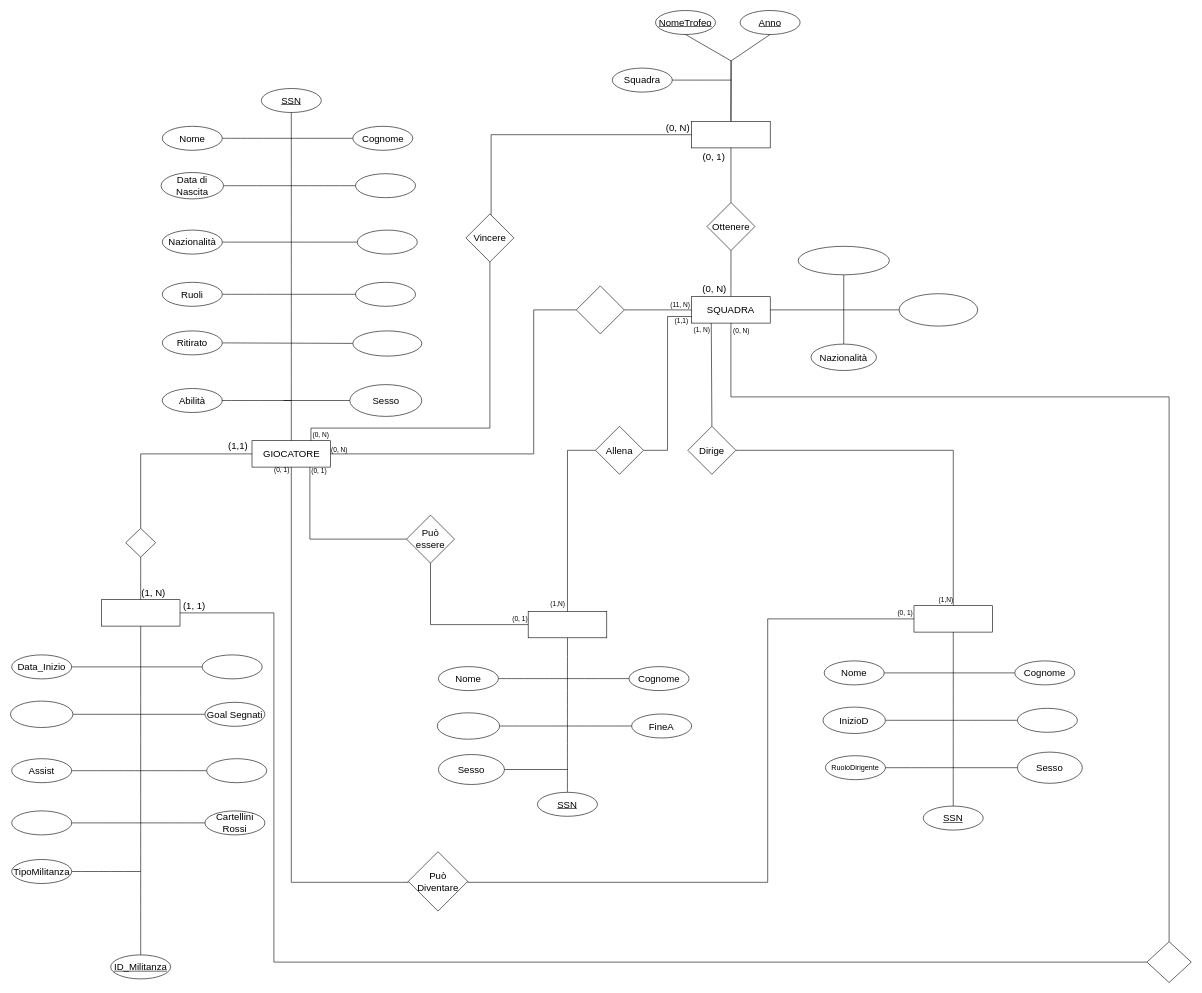
This 1202x993 diagram has some shape labels left out. The box of each missing label's shape, as (x1, y1, x2, y2) in pixels:
ALLENATORE: (528, 611, 607, 638)
Altezza: (357, 230, 417, 254)
Cartellini Gialli: (11, 810, 72, 835)
Data_Fine: (202, 654, 262, 679)
Data_Fondazione: (798, 246, 889, 275)
DIRIGENTE: (913, 605, 993, 632)
FineD: (1017, 708, 1077, 732)
Goal Subiti: (206, 758, 267, 783)
Ha: (125, 528, 156, 557)
InizioA: (437, 712, 500, 739)
MILITANZA: (101, 599, 180, 626)
NomeSquadra: (898, 293, 978, 326)
Partecipa: (576, 285, 624, 334)
Partite Giocate: (10, 700, 73, 728)
Peso: (355, 282, 416, 306)
Piede: (355, 173, 416, 198)
Riferisce: (1146, 941, 1191, 982)
TipoGiocatore: (352, 330, 422, 356)
TROFEO: (691, 121, 770, 148)
